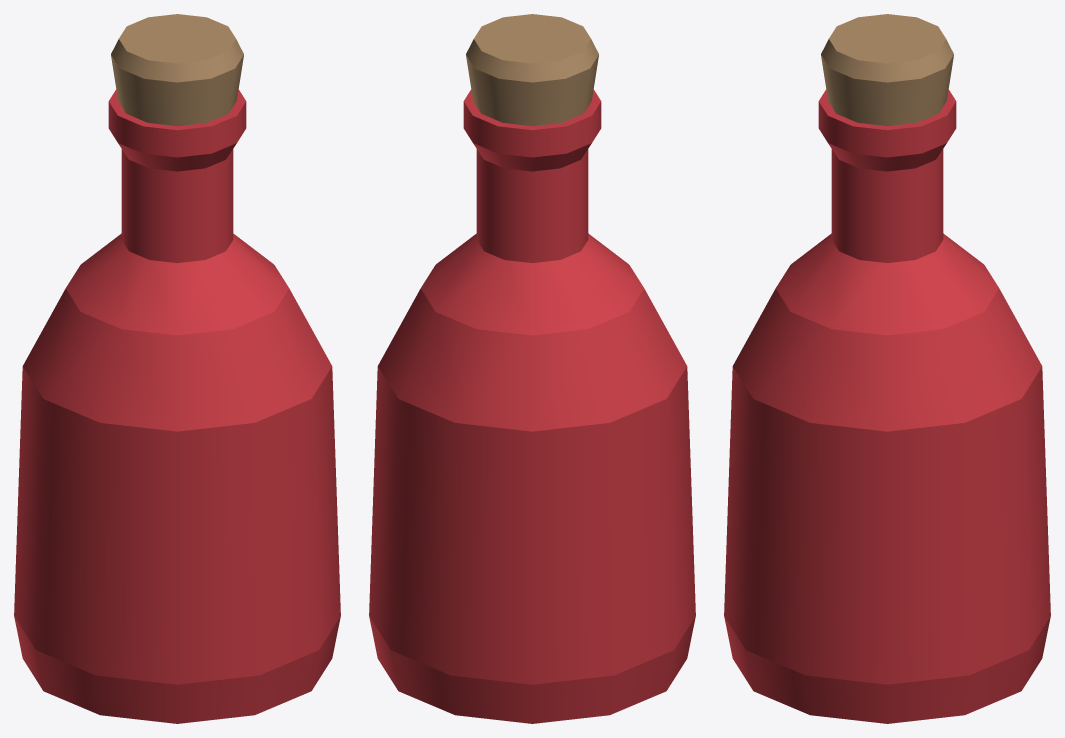
Rendered from PickupHealth.gltf.
The picture shows the model from 3 angles, left to right: view 1: azimuth 30°, elevation 25°; view 2: azimuth 150°, elevation 25°; view 3: azimuth 270°, elevation 25°; orthographic projection.
Size of the model in its own units: 0.152 by 0.318 by 0.152.
